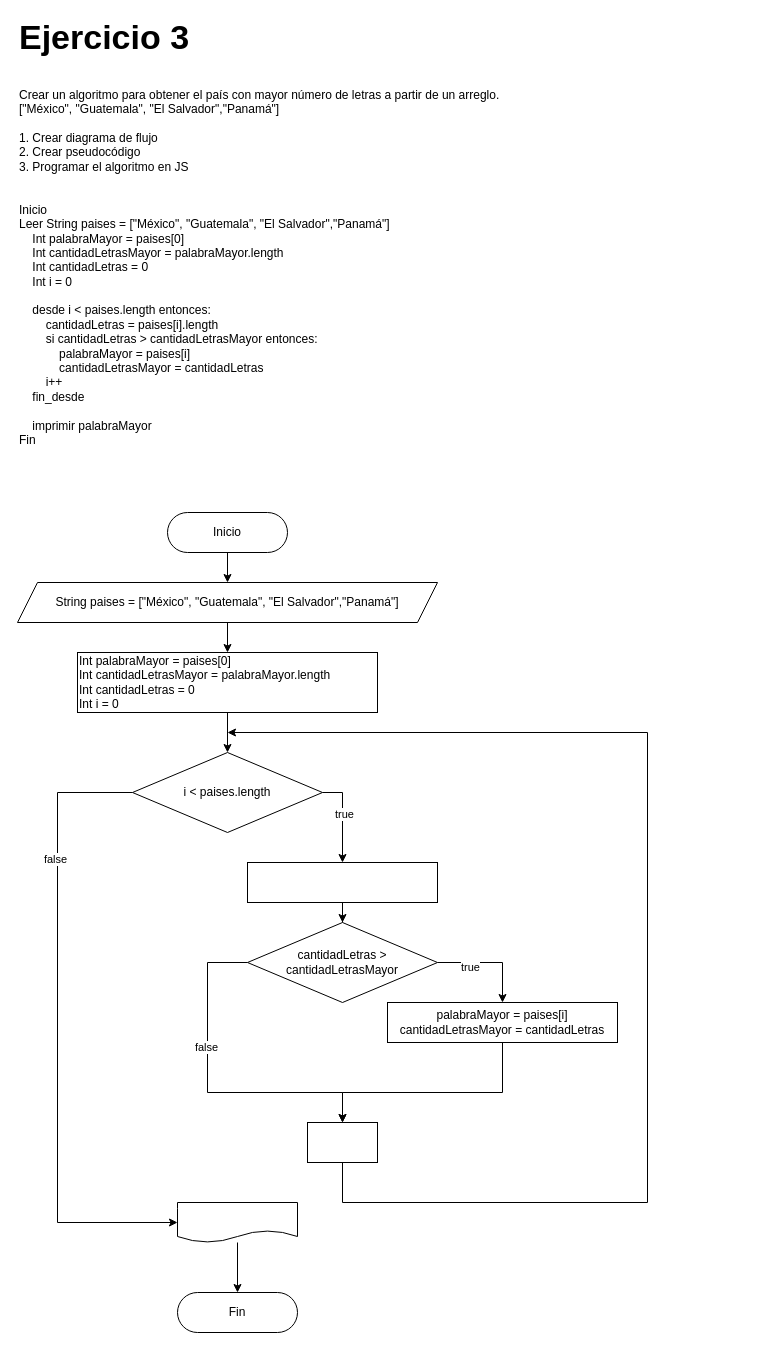
Image size: 775x1350. Some labels were removed from this diagram. Here are the shapes that lost their labels. From the top down, the box of each, then its label:
(246, 862, 438, 902): cantidadLetras = paises[i].length
(306, 1122, 378, 1162): i++
(176, 1202, 298, 1242): palabraMayor
